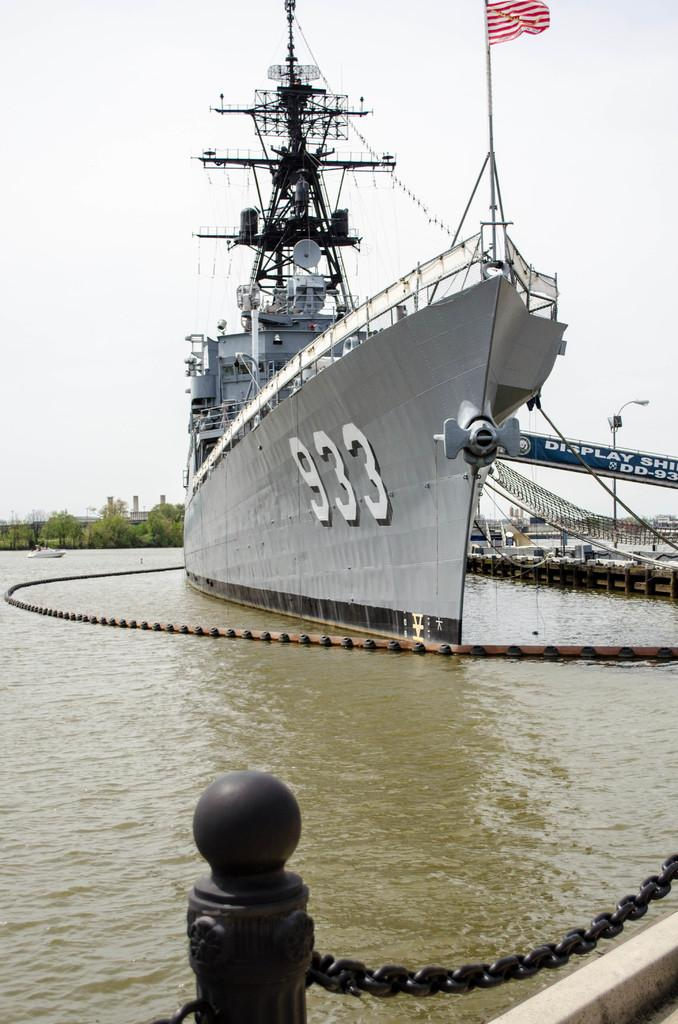Warship: (157, 26, 570, 662)
